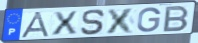A: (19, 10, 52, 39)
B: (161, 5, 191, 33)
G: (135, 6, 162, 33)
S: (79, 9, 106, 36)
X: (104, 7, 137, 35), (51, 10, 79, 37)
